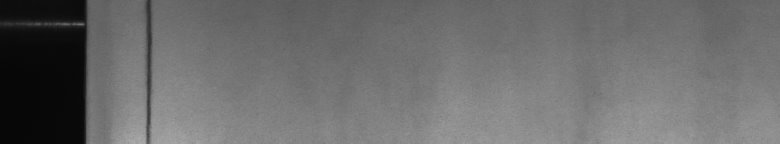hd: (139, 4, 160, 136)
